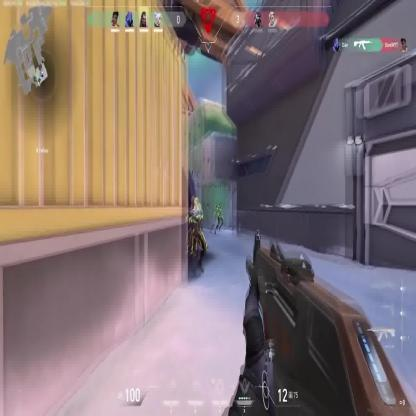enemy: (189, 196, 209, 274), (214, 202, 224, 235)
enemy_head: (194, 198, 201, 209), (218, 202, 223, 210)
